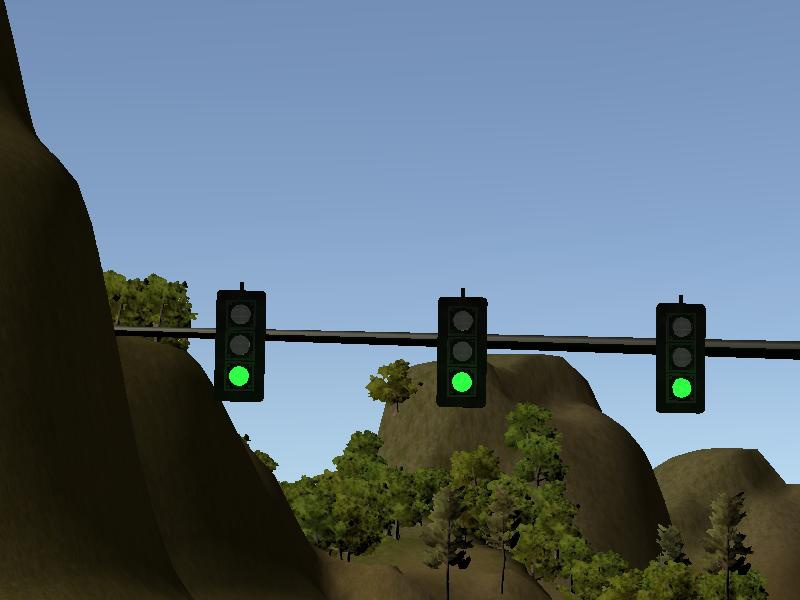Green: (438, 297, 486, 408), (216, 290, 263, 402), (656, 305, 704, 414)
